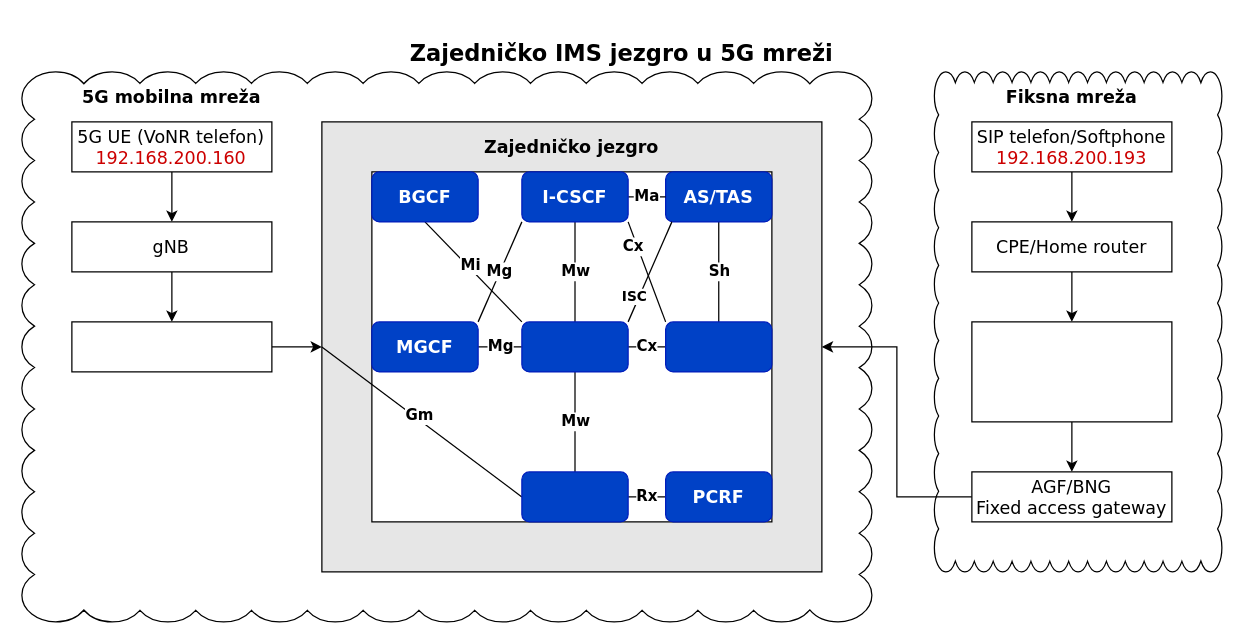
This 1244x644 diagram has some shape labels left out. Each missing label, with the box of its shape:
5G core (5GC) AMF/SMF/UPF: (71, 321, 272, 372)
Fiksna pristupna tačka (xDSL/FTTH): (971, 321, 1172, 422)
HSS: (664, 321, 772, 372)
P-CSCF: (521, 471, 628, 522)
S-CSCF: (521, 321, 628, 372)
